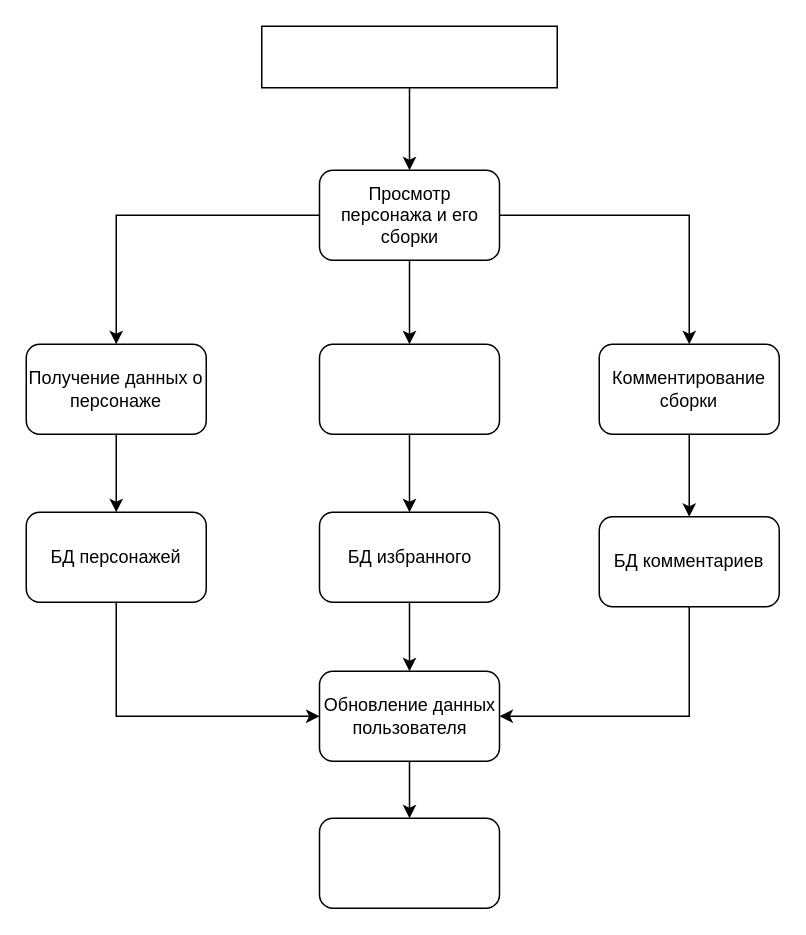
Image size: 806x935. Some labels were removed from this diagram. Each missing label, with the centre of its shape:
БД активности пользователей: the point at 409,862
Добавление в избранное: the point at 409,388
Пользователь: the point at 408,56
